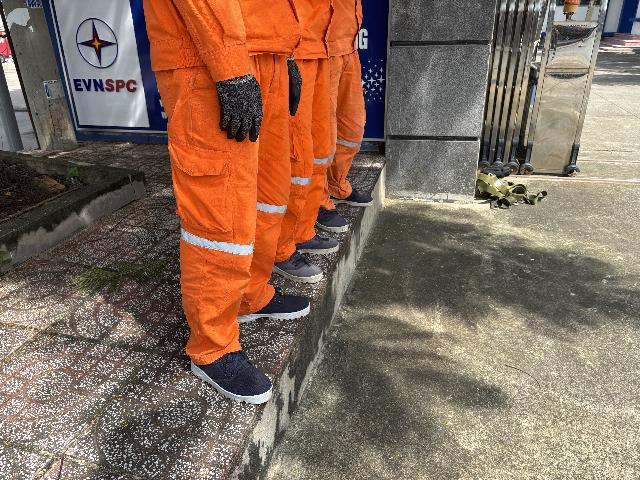gloves: (213, 65, 269, 145), (278, 52, 313, 118)
shoes: (184, 332, 280, 410), (233, 280, 318, 325), (254, 242, 329, 286), (324, 180, 384, 217), (300, 195, 348, 239), (285, 225, 346, 258)
